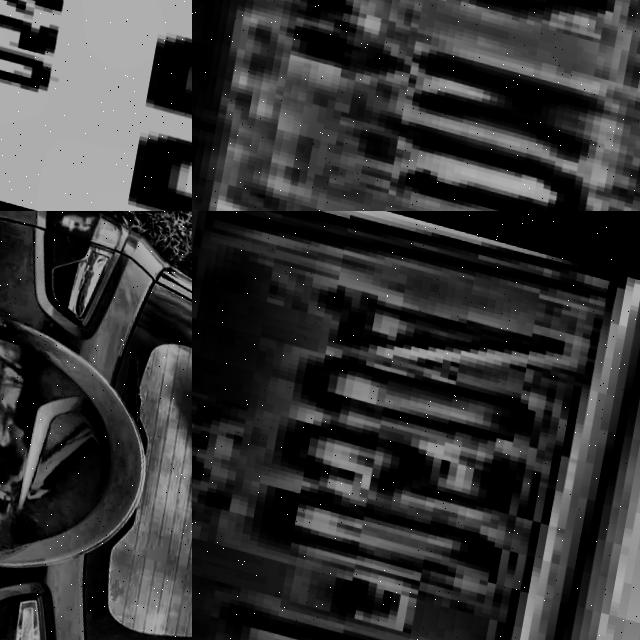license-plate: (192, 211, 640, 640), (192, 0, 640, 211), (0, 0, 192, 211)
